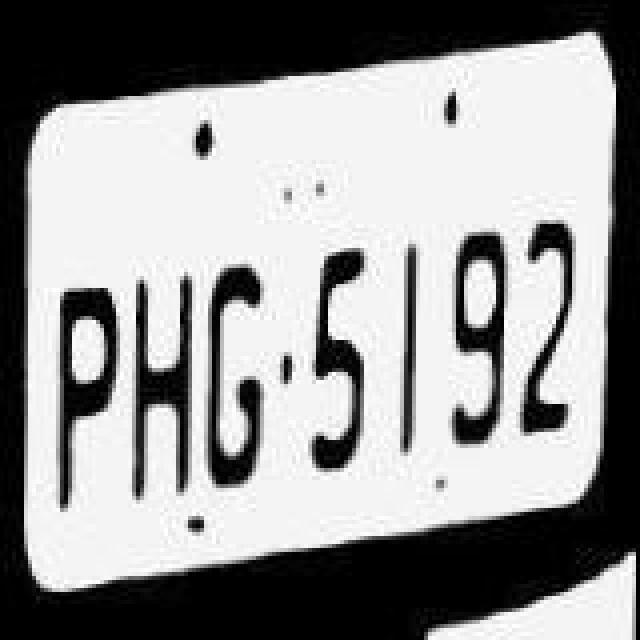1: (378, 212, 438, 472)
2: (516, 198, 588, 466)
5: (300, 238, 380, 490)
9: (442, 196, 518, 464)
G: (198, 218, 274, 498)
H: (122, 236, 198, 504)
P: (42, 262, 122, 530)
